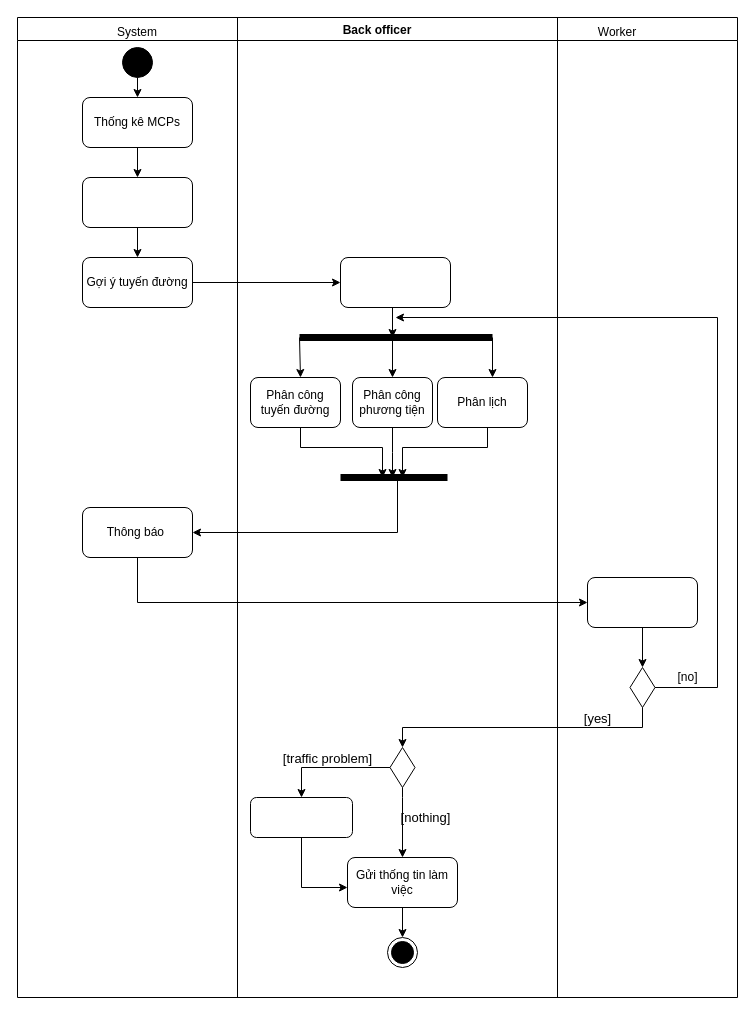
Some shapes in this 755 by 1016 pixel diagram are drawn without their labels. Here are the shapes that lost their labels. From the top down, the centre of each, then its label:
point (137, 202): Phân nhóm MCPS và phương tiện
point (395, 282): Chọn tuyến đường
point (642, 602): Xác nhận
point (301, 817): Tạo tuyến đường mới
